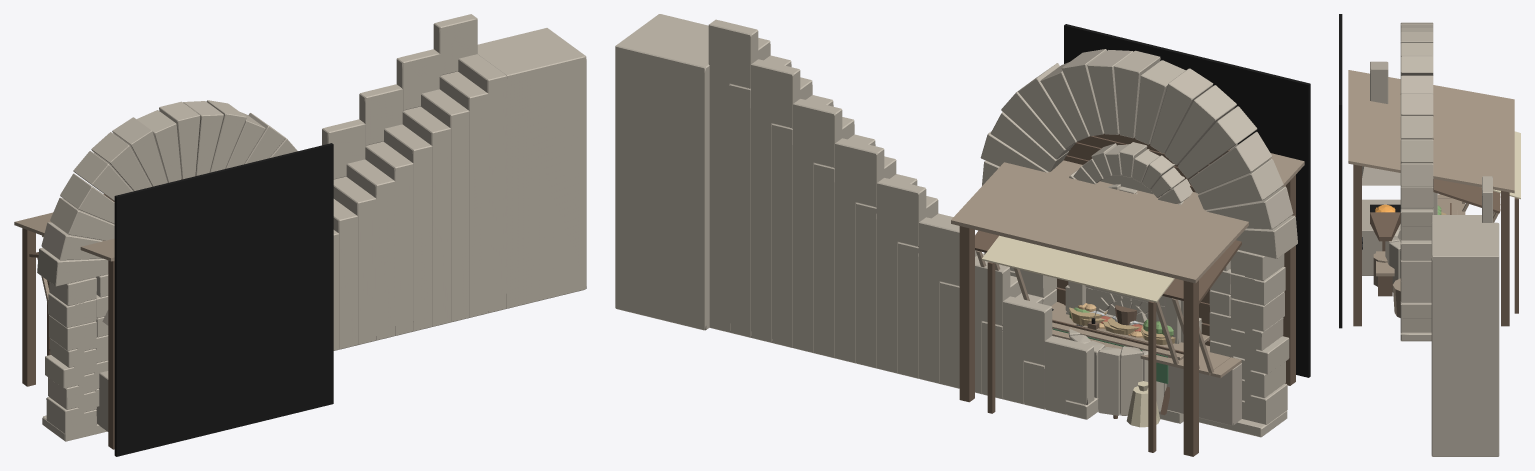
Rendered from kit.glb.
3 views of the same model, side by side, from view 1: azimuth 30°, elevation 25°; view 2: azimuth 150°, elevation 25°; view 3: azimuth 270°, elevation 25° (orthographic). The views are drawn at different scales.
Visible parts, largest first — view 1: scala_esterna, bottega_aperta_300, bottega_aperta_240, bottega_aperta_340, bottega_340, bottega_300, fucina, bottega_240; view 2: scala_esterna, fucina, bottega_340, bottega_aperta_340, bottega_300, bottega_240, tenda_muro, pozzo, portale_senese_120x260, bottega_aperta_300, banco_panni, bottega_aperta_240 (+4 smaller); view 3: fucina, scala_esterna, bottega_340, bottega_aperta_340, tenda_muro, pozzo, banco_cambio, bottega_aperta_300, banco_notaio.
Part boxes in pixels (<box>): scala_esterna: <box>322,14,586,350</box>; bottega_aperta_300: <box>129,160,321,453</box>; bottega_aperta_240: <box>147,185,302,449</box>; bottega_aperta_340: <box>29,143,333,456</box>; bottega_340: <box>37,100,297,441</box>; bottega_300: <box>73,127,281,437</box>; fucina: <box>14,212,114,449</box>; bottega_240: <box>90,145,258,433</box>; scala_esterna: <box>615,14,1098,419</box>; fucina: <box>951,144,1304,456</box>; bottega_340: <box>980,49,1297,437</box>; bottega_aperta_340: <box>975,24,1310,425</box>; bottega_300: <box>992,81,1256,433</box>; bottega_240: <box>1017,99,1237,428</box>; tenda_muro: <box>981,235,1174,452</box>; pozzo: <box>1068,282,1180,415</box>; portale_senese_120x260: <box>1067,142,1202,423</box>; bottega_aperta_300: <box>983,85,1236,421</box>; banco_panni: <box>1052,306,1209,415</box>; bottega_aperta_240: <box>1013,106,1239,413</box>; fucina: <box>1348,61,1514,326</box>; scala_esterna: <box>1431,176,1499,456</box>; bottega_340: <box>1400,22,1433,341</box>; bottega_aperta_340: <box>1339,14,1500,328</box>; tenda_muro: <box>1481,131,1520,313</box>; pozzo: <box>1385,192,1437,292</box>; banco_cambio: <box>1376,251,1394,296</box>; bottega_aperta_300: <box>1437,199,1500,216</box>; banco_notaio: <box>1373,251,1387,286</box>.
Size of what is drawn, in the model's own units: 8.85 by 4.66 by 2.95.
